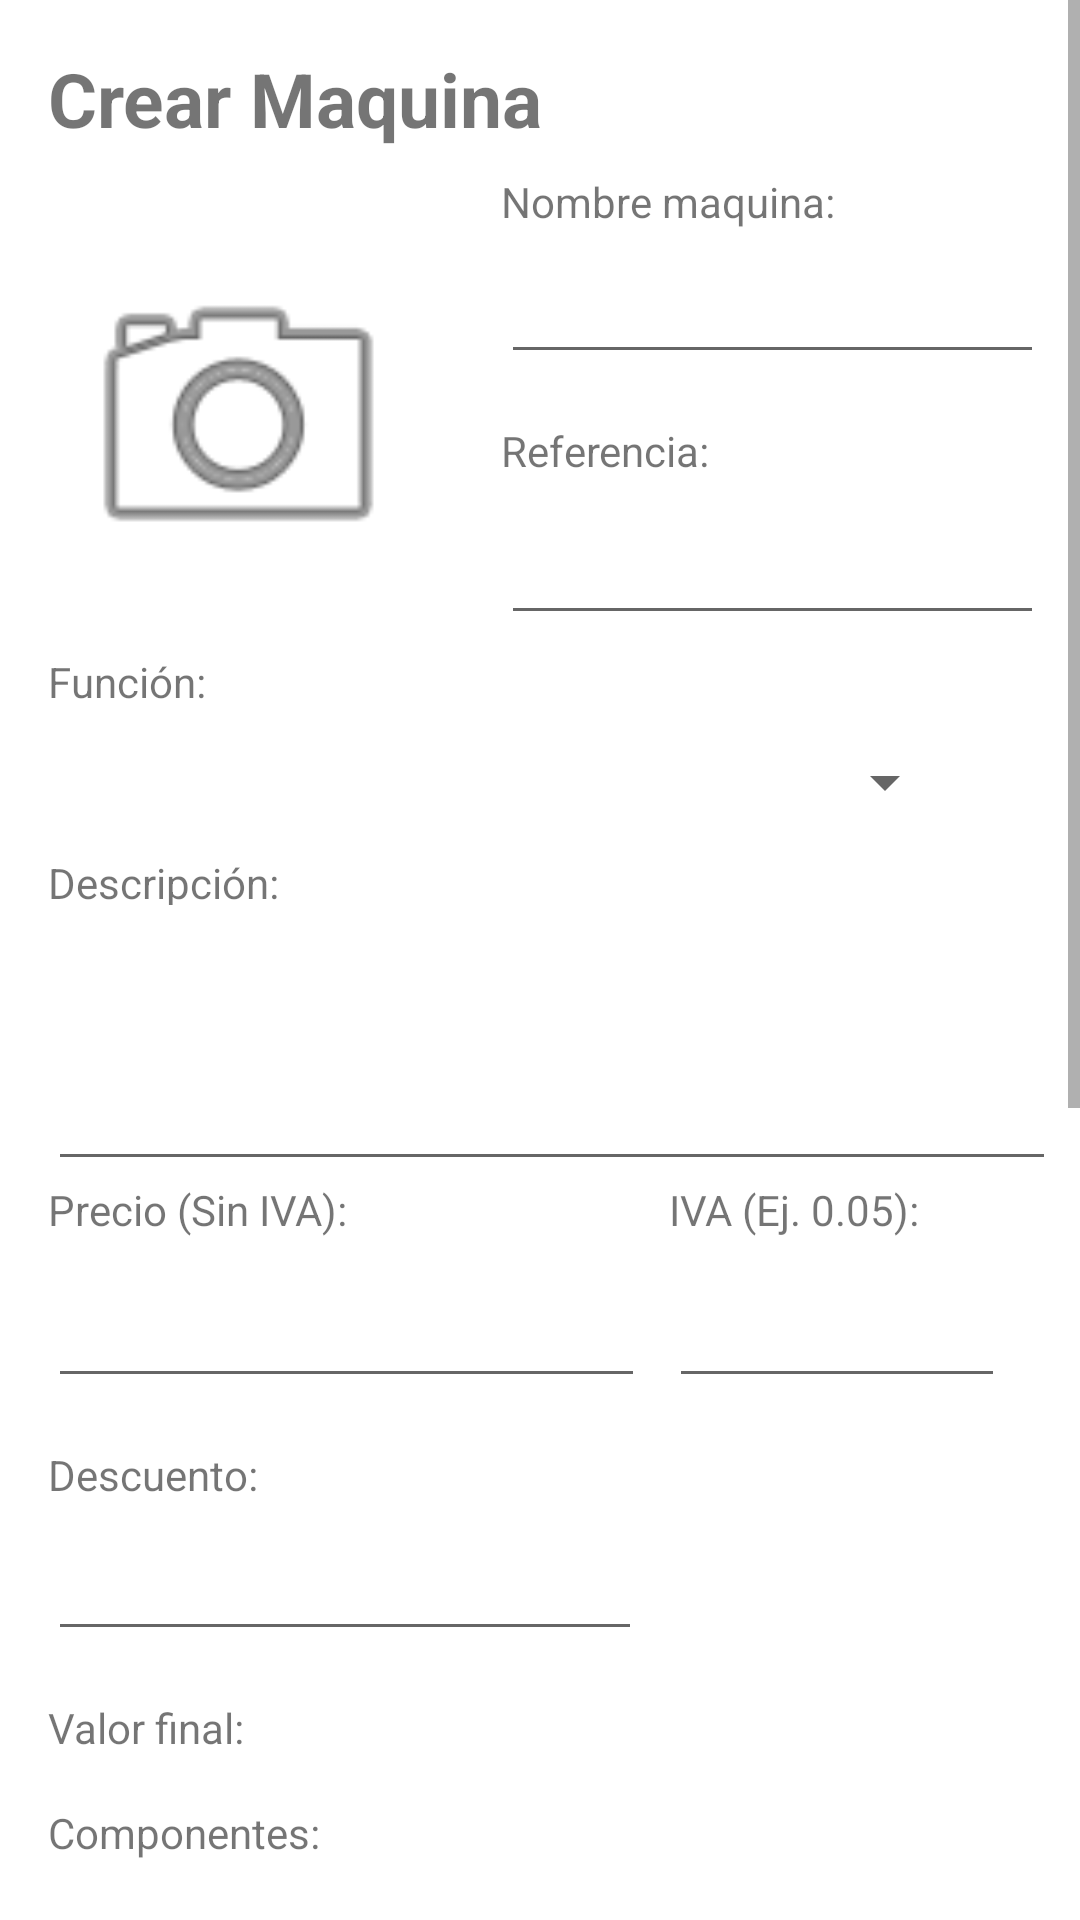

Named icons in this screenshot (1080x1920) and their centers, point (x, y):
camera: point (238, 413)
